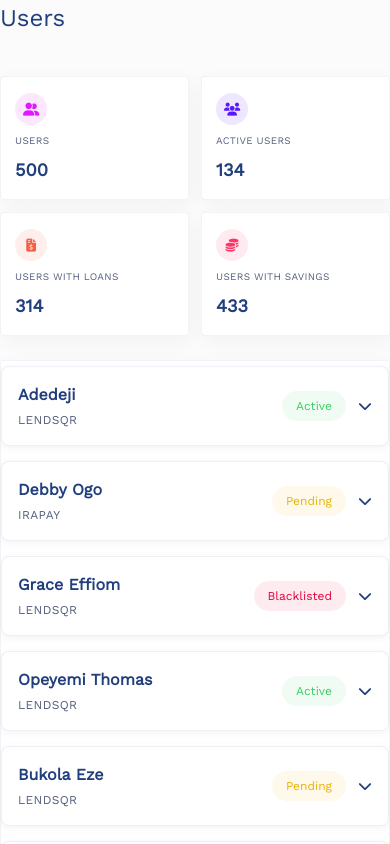
Scenario: Users Page › renders accordion cards on mobile and expands details on click
Expected: the element with class "user-mobile-card__header" showing "Adedeji Lendsqr Active" is shown, top-left (18, 383), bottom-right (372, 429)
Click the element with class "user-mobile-card__header" showing "Debby Ogo Irapay Pending" at coordinates (60, 490), box top-left (18, 478), bottom-right (372, 524)
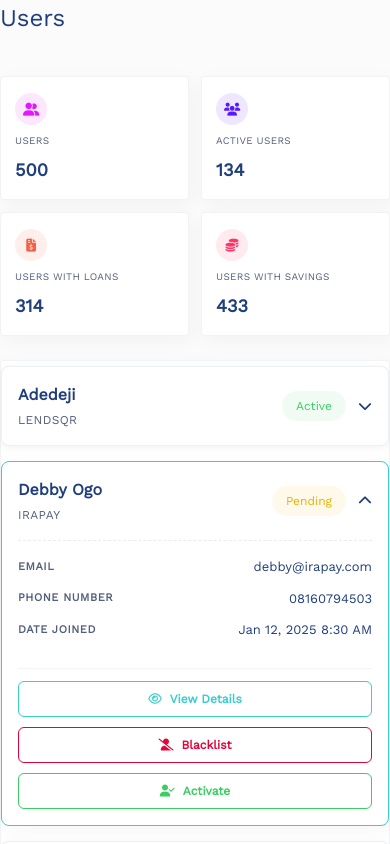
Result: the button "View Details" is shown at top-left (18, 680), bottom-right (372, 716)
